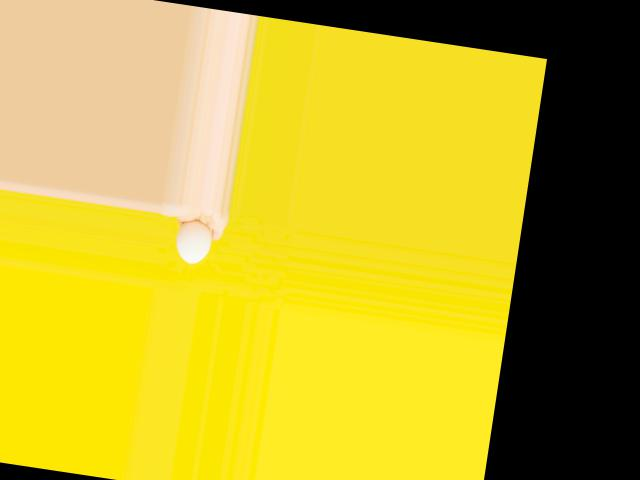egg: (175, 217, 214, 265)
